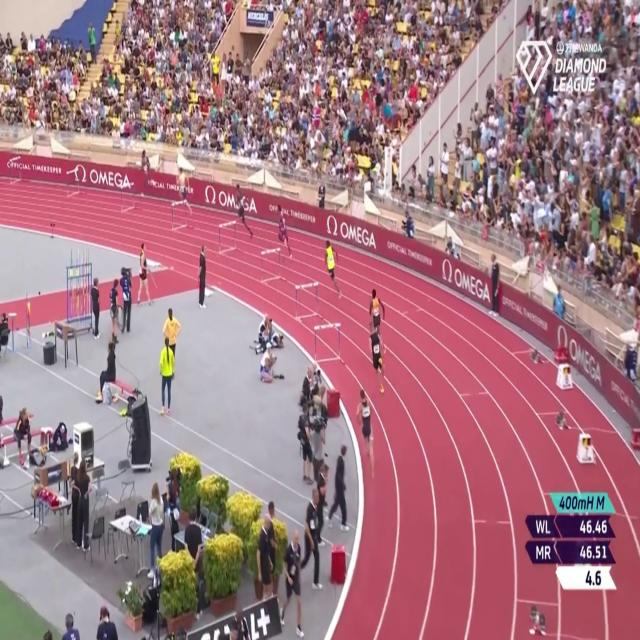athlete: (354, 386, 379, 477), (363, 290, 393, 358), (364, 318, 390, 396), (320, 234, 342, 299), (232, 181, 255, 240), (274, 201, 294, 259), (177, 162, 195, 219), (140, 147, 154, 210)
hurdle: (314, 318, 344, 362), (293, 281, 322, 322), (260, 243, 284, 284), (171, 198, 192, 234), (218, 219, 238, 255), (8, 152, 24, 189), (64, 166, 82, 198), (121, 179, 137, 214)
